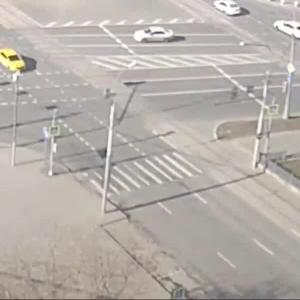car: (1, 43, 30, 75), (133, 28, 177, 46), (273, 17, 300, 41), (212, 1, 243, 18)
